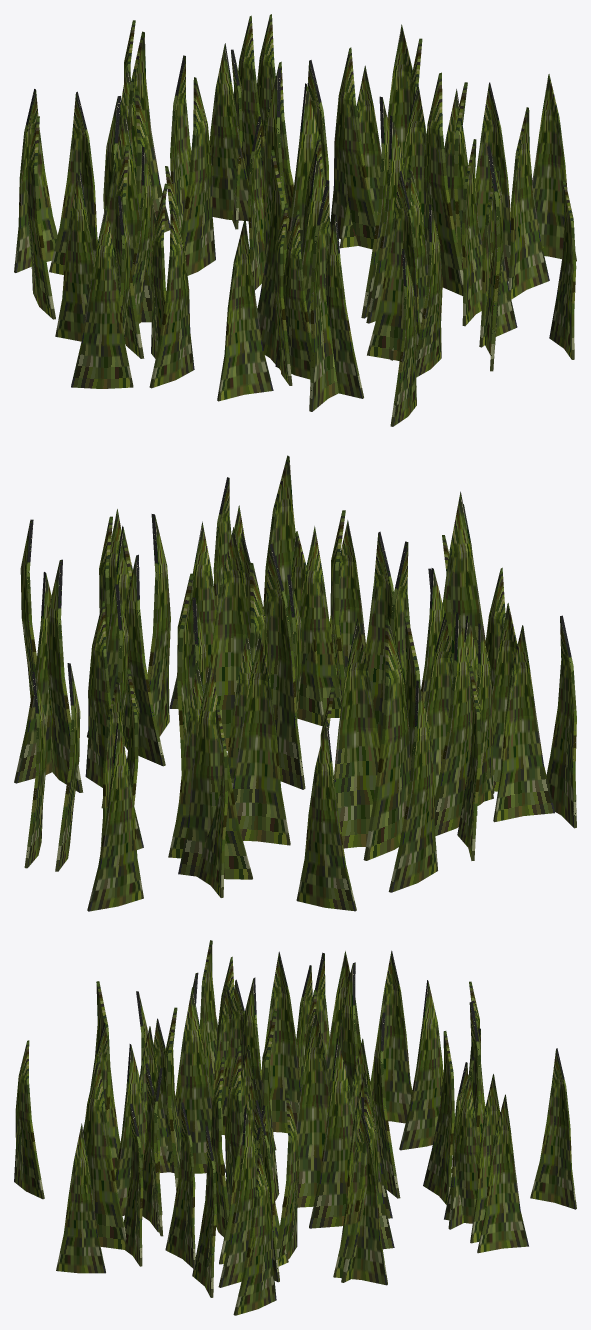
Rendered from grassMedium.glb.
The picture shows the model from 3 angles, top to bottom: view 1: azimuth 30°, elevation 25°; view 2: azimuth 150°, elevation 25°; view 3: azimuth 270°, elevation 25°; orthographic projection. The views are drawn at different scales.
Parts seen in each view (by area): view 1: grassMedium; view 2: grassMedium; view 3: grassMedium.
Part boxes in pixels (box(x1,y1,x2,y2)): grassMedium: box(14, 14, 576, 426); grassMedium: box(14, 455, 576, 911); grassMedium: box(14, 940, 576, 1315).
Size of the model in its own units: 4.26 by 1.77 by 4.58.
1 material, 1 textured.
